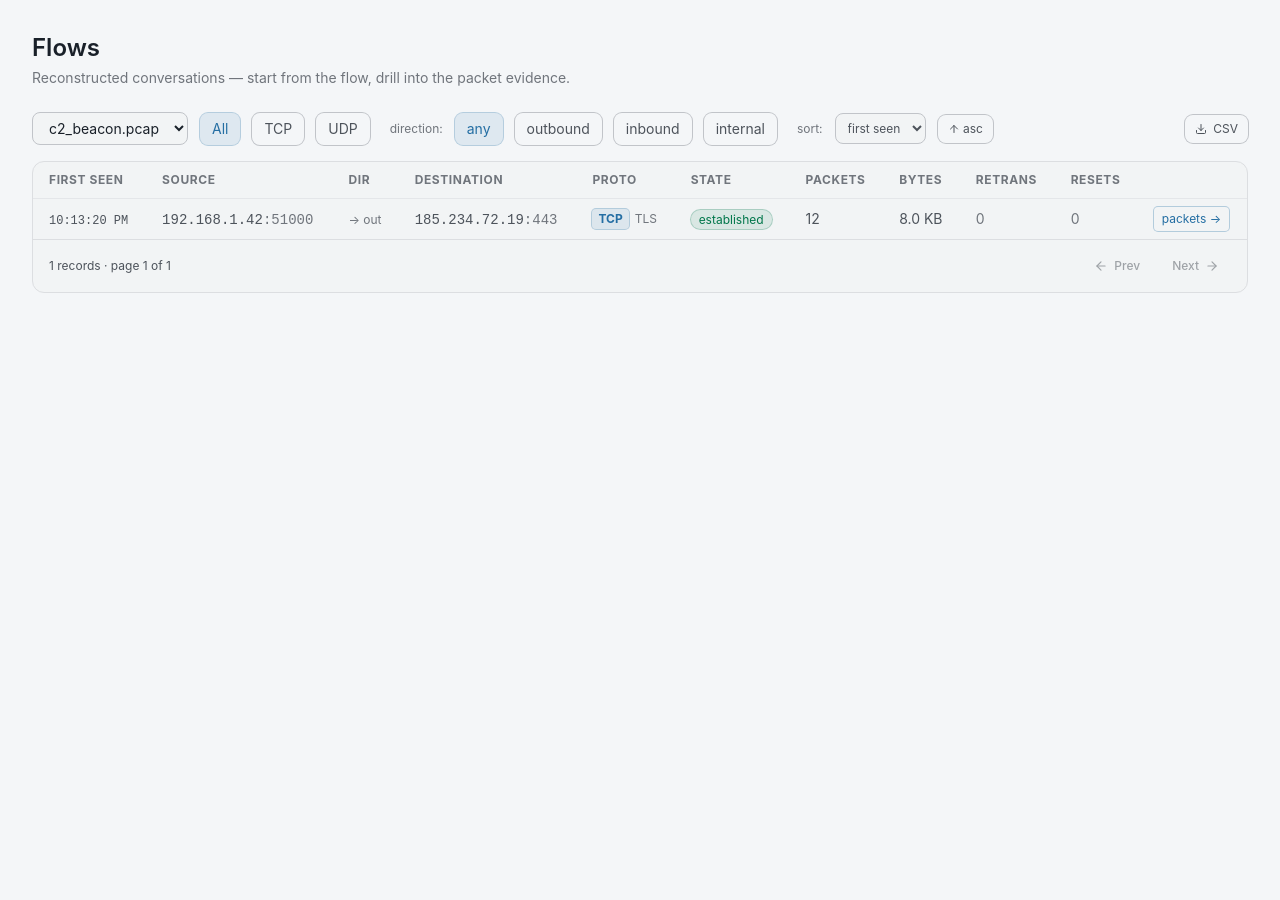
Test: FlowsPage › clicking packets opens the evidence modal with packet rows
The width and height of the screenshot is (1280, 900).
Click the button "packets →".
click(1191, 219)  # box x1=1154 y1=207 x2=1229 y2=231
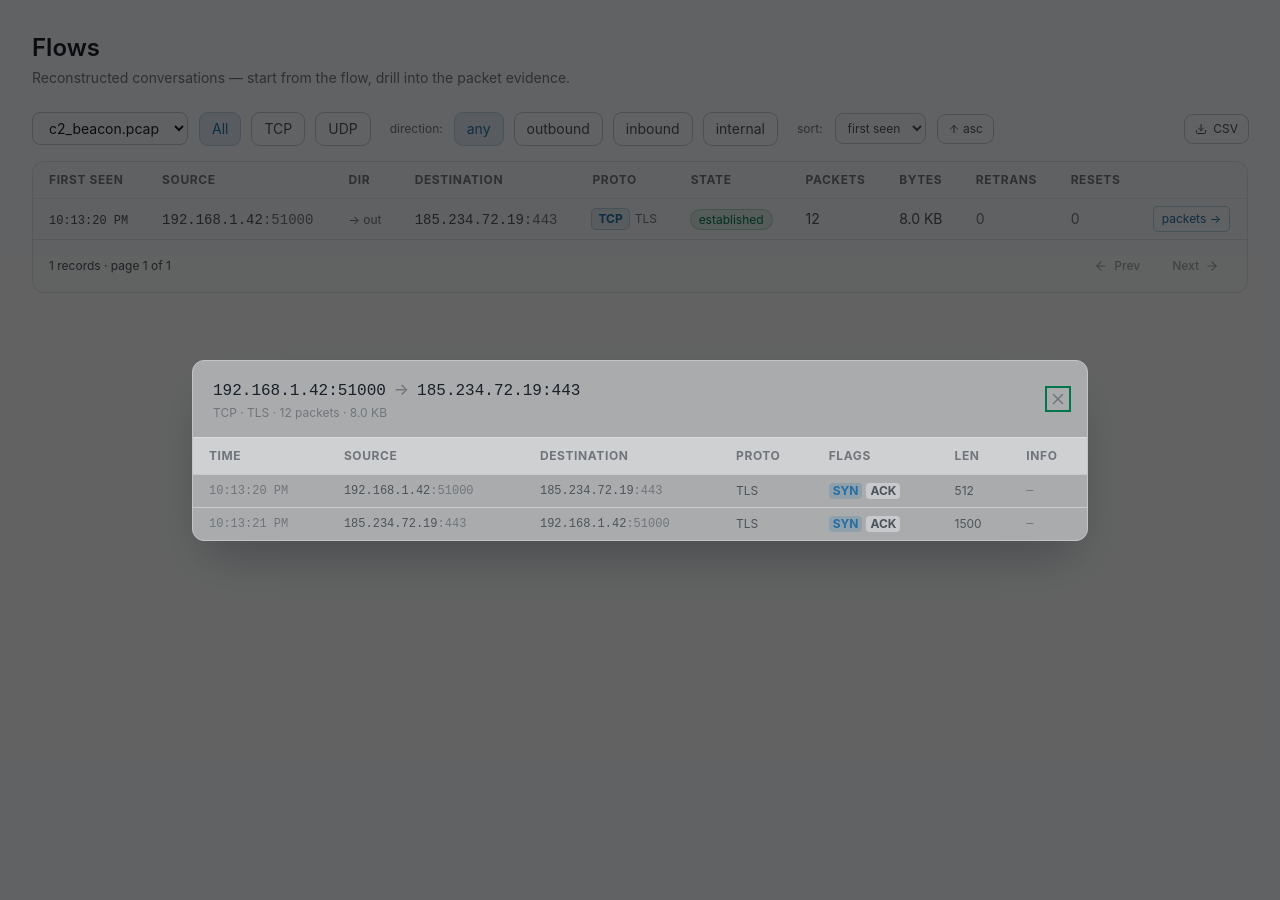
Check: the dialog is shown
Check: the column heading "Time" is shown, box x1=193 y1=438 x2=328 y2=474
Check: the column heading "Source" is shown, box x1=328 y1=438 x2=524 y2=474
